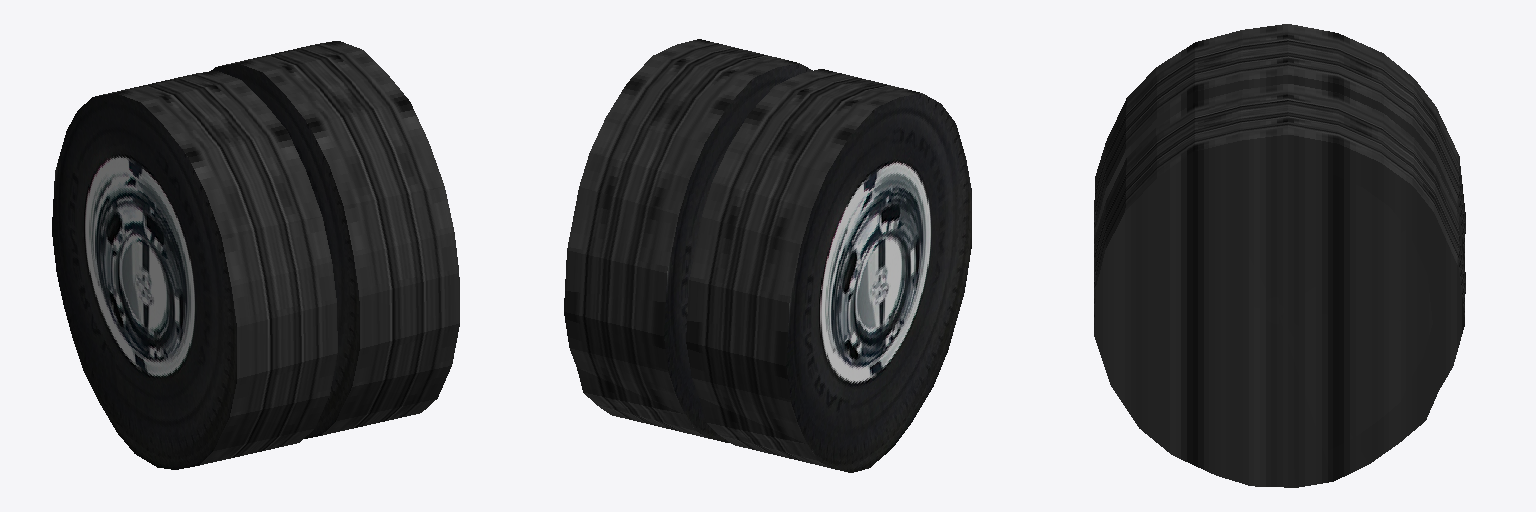
3 views of the same model, side by side, from view 1: azimuth 30°, elevation 25°; view 2: azimuth 150°, elevation 25°; view 3: azimuth 270°, elevation 25° (orthographic).
Bounding box in the file's own units: 12.8 × 19.44 × 18.42.
1 materials, 1 textured.